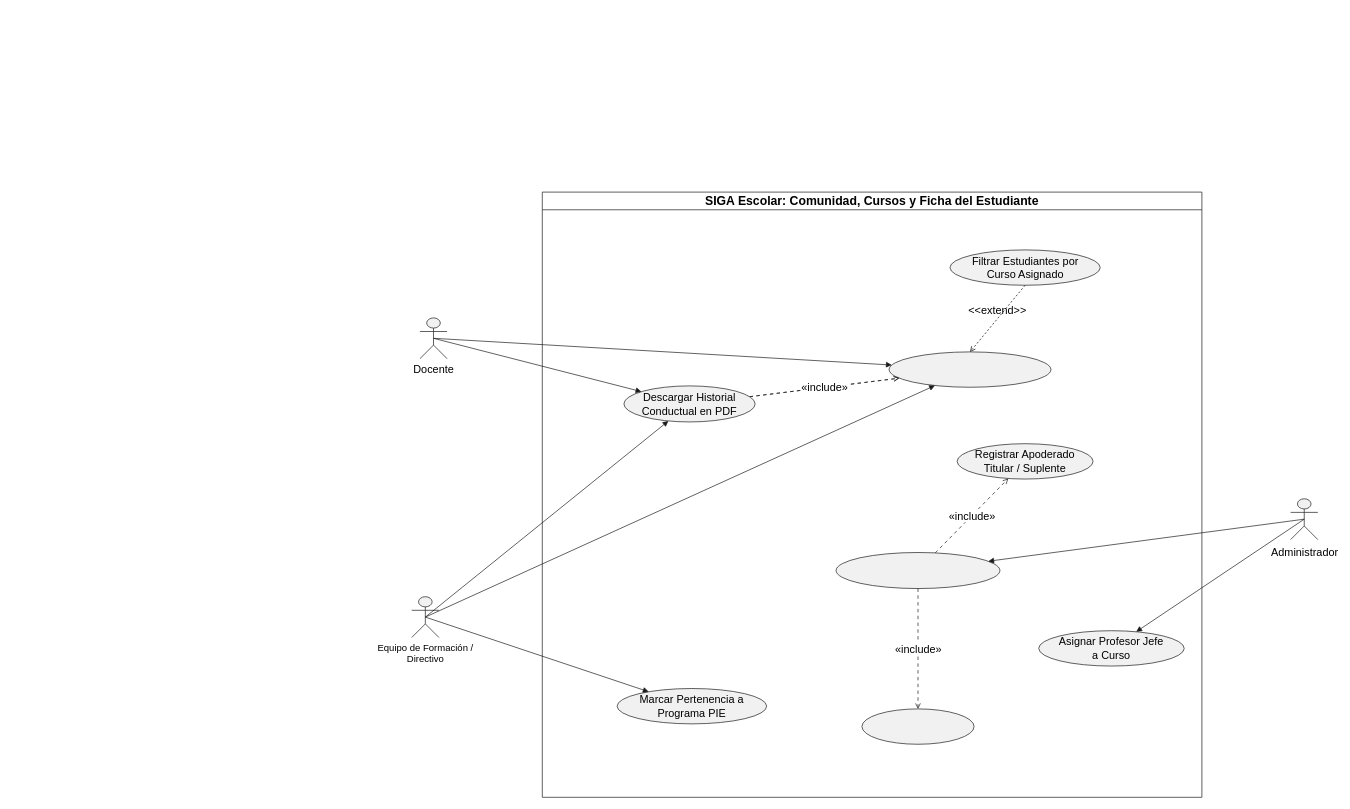
Image size: 1350x809. Some labels were removed from this diagram. Here are the shapes that lost their labels. From the top down, the centre of each, then its label:
the point at 969,369: Consultar Ficha Integral del Estudiante
the point at 917,570: Importar Nómina Masiva (CSV / Excel)
the point at 917,726: Validar RUT con Módulo 11
